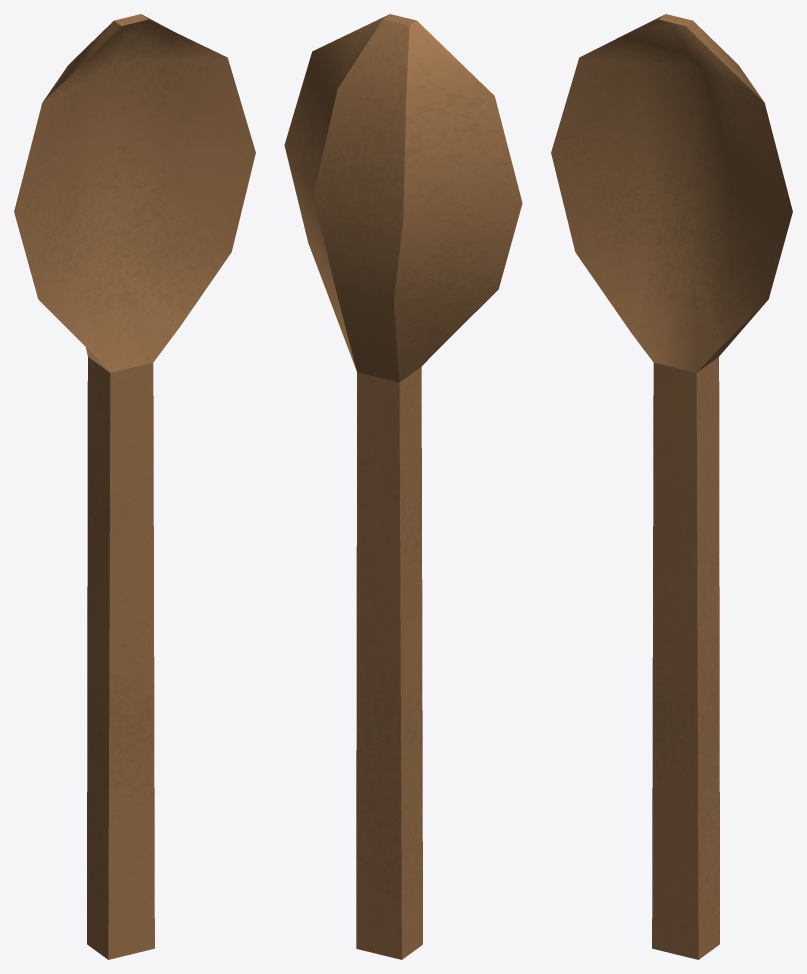
The model's file is Spoon_exp.fbx.
3 renders of one model, left to right at view 1: azimuth 30°, elevation 25°; view 2: azimuth 150°, elevation 25°; view 3: azimuth 330°, elevation 25°, orthographic.
Visible parts, largest first — view 1: pCube3; view 2: pCube3; view 3: pCube3.
Part boxes in pixels (box(x1,y1,x2,y2)): pCube3: box(14, 14, 255, 959); pCube3: box(284, 14, 522, 959); pCube3: box(551, 14, 792, 959).
Bounding box in the file's own units: 0.6156 × 2.27 × 0.2021.
1 material, 1 textured.
